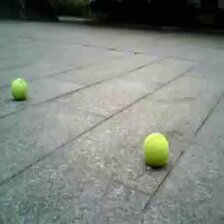tennis: (143, 132, 169, 163), (11, 77, 27, 98)
